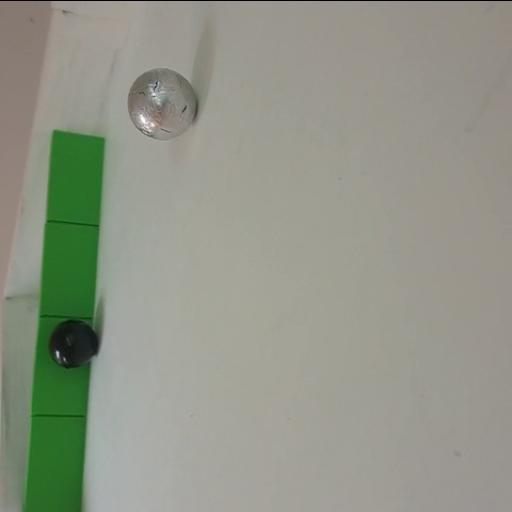alive: (128, 68, 198, 140)
dead: (48, 318, 98, 368)
